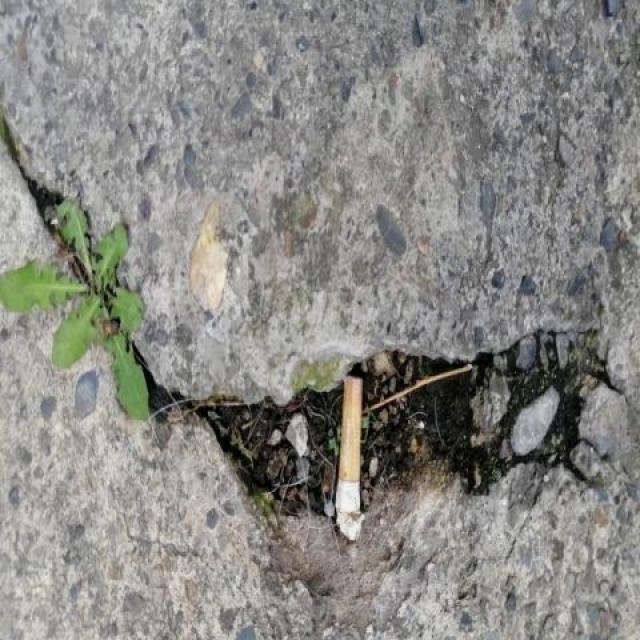non-organic waste: (323, 368, 378, 516)
